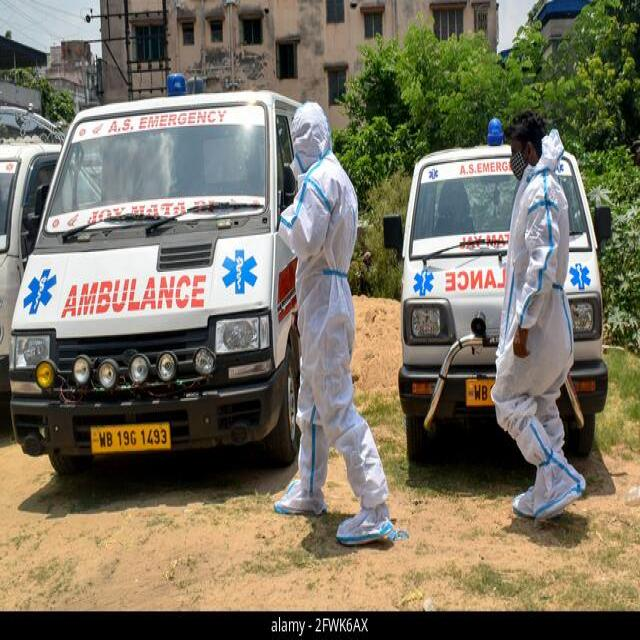emergency: (10, 88, 300, 473), (384, 111, 611, 518)
